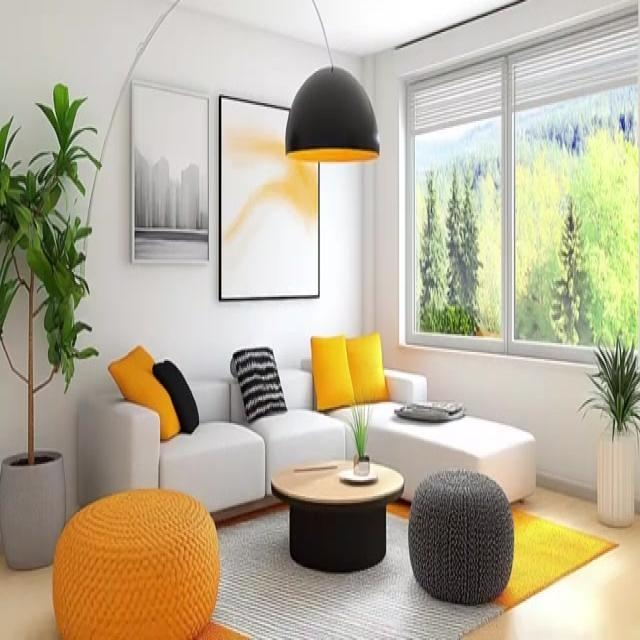obstacle: (80, 330, 538, 516), (270, 457, 404, 572)
